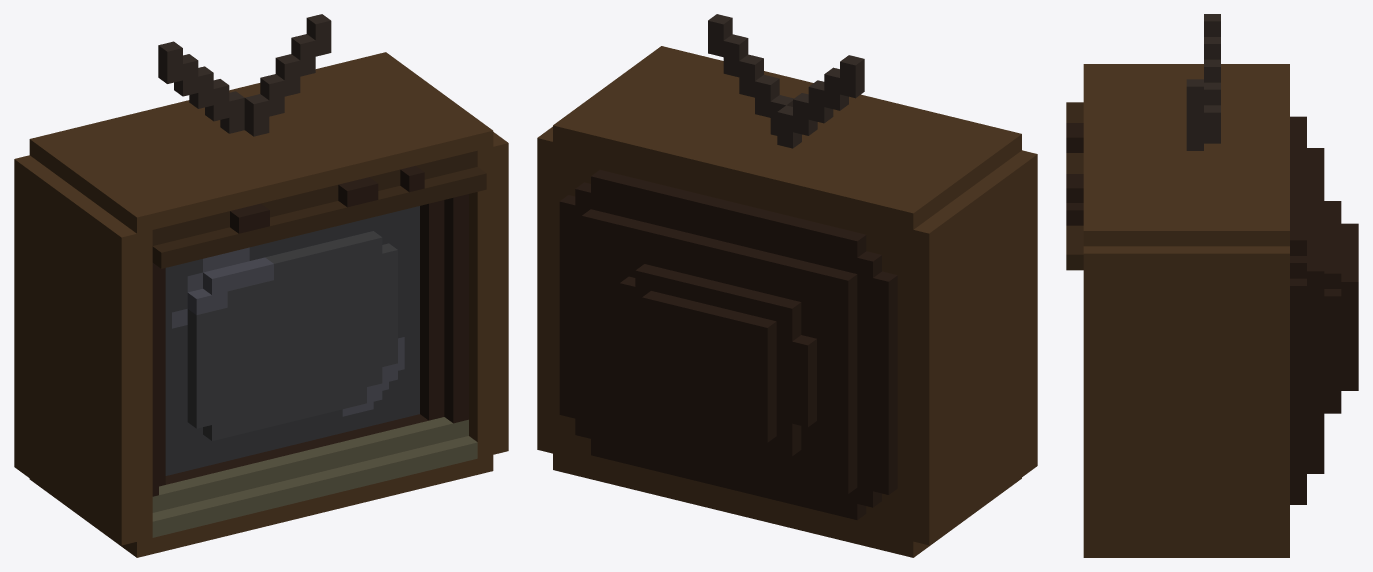
The model's file is telek.obj.
The picture shows the model from 3 angles, left to right: view 1: azimuth 30°, elevation 25°; view 2: azimuth 150°, elevation 25°; view 3: azimuth 270°, elevation 25°; orthographic projection. The views are drawn at different scales.
Bounding box in the file's own units: 2.5 × 2.7 × 1.7.
Materials: 1 (1 with a texture image).
